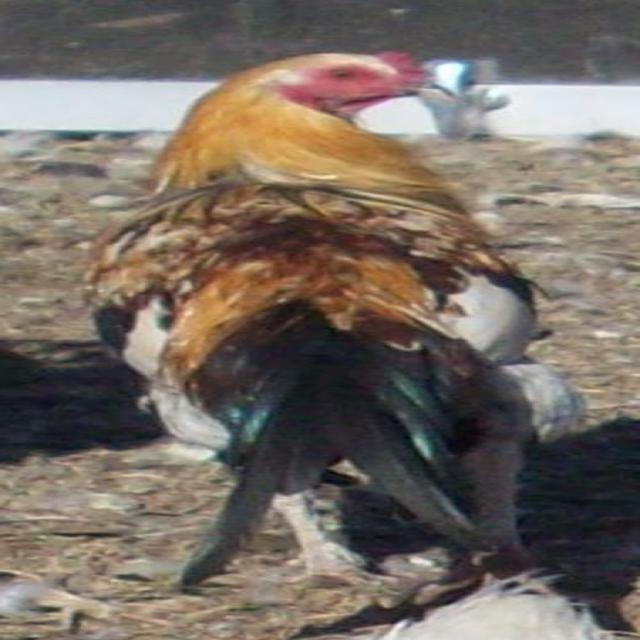Chicken: (44, 39, 606, 597)
